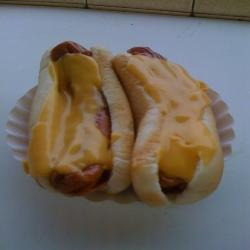hotdog: (109, 40, 241, 216), (19, 29, 137, 204)
